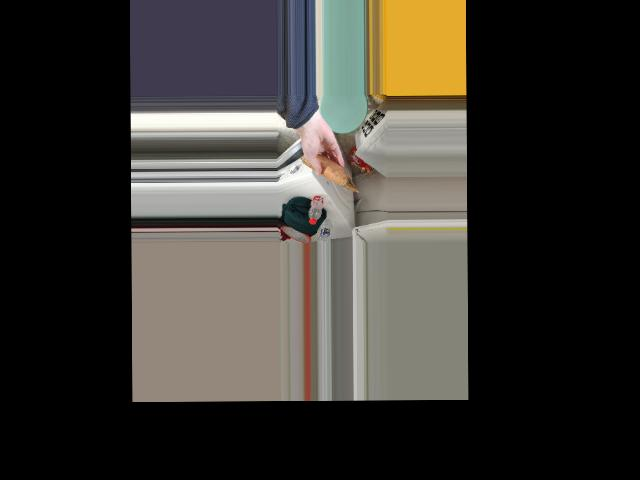sweet_potato: (311, 154, 343, 185)
